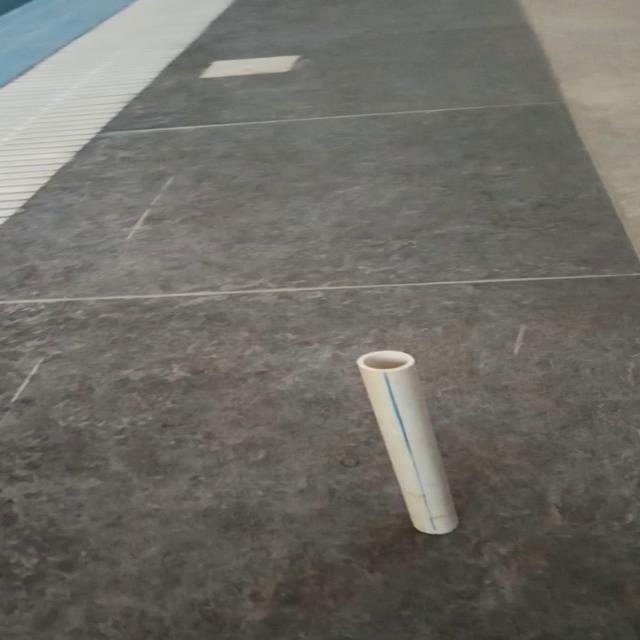Cube: (354, 349, 459, 535)
